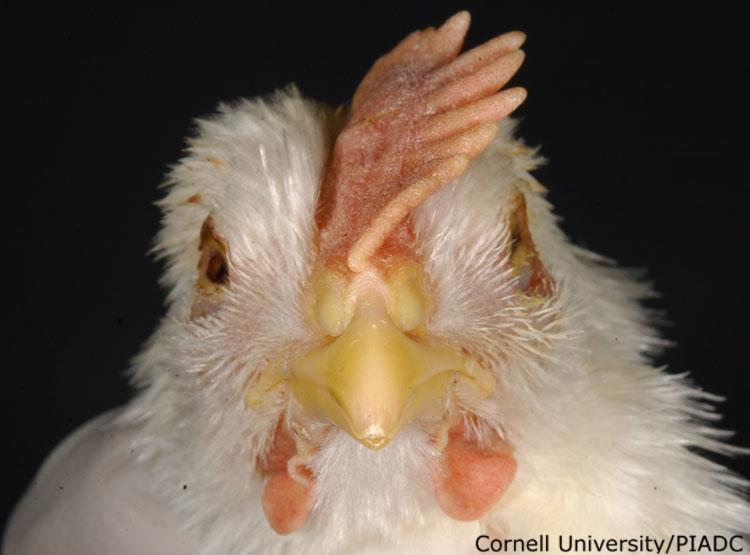AbNormal: (0, 11, 750, 555)
